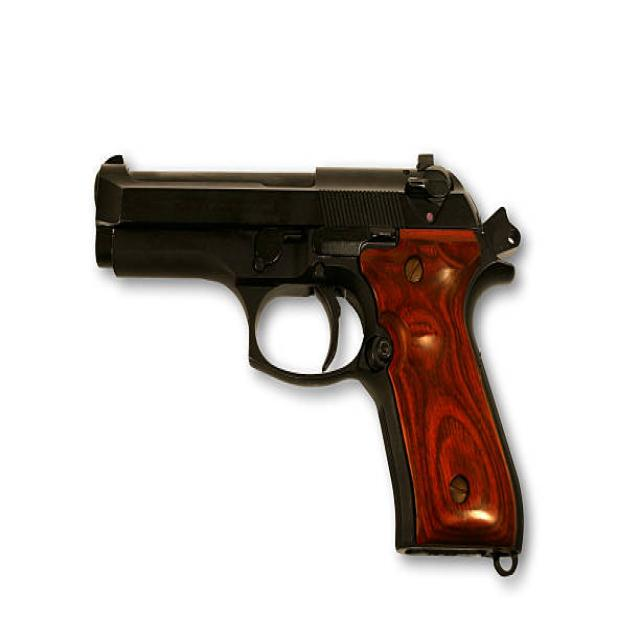pistol: (91, 146, 529, 581)
